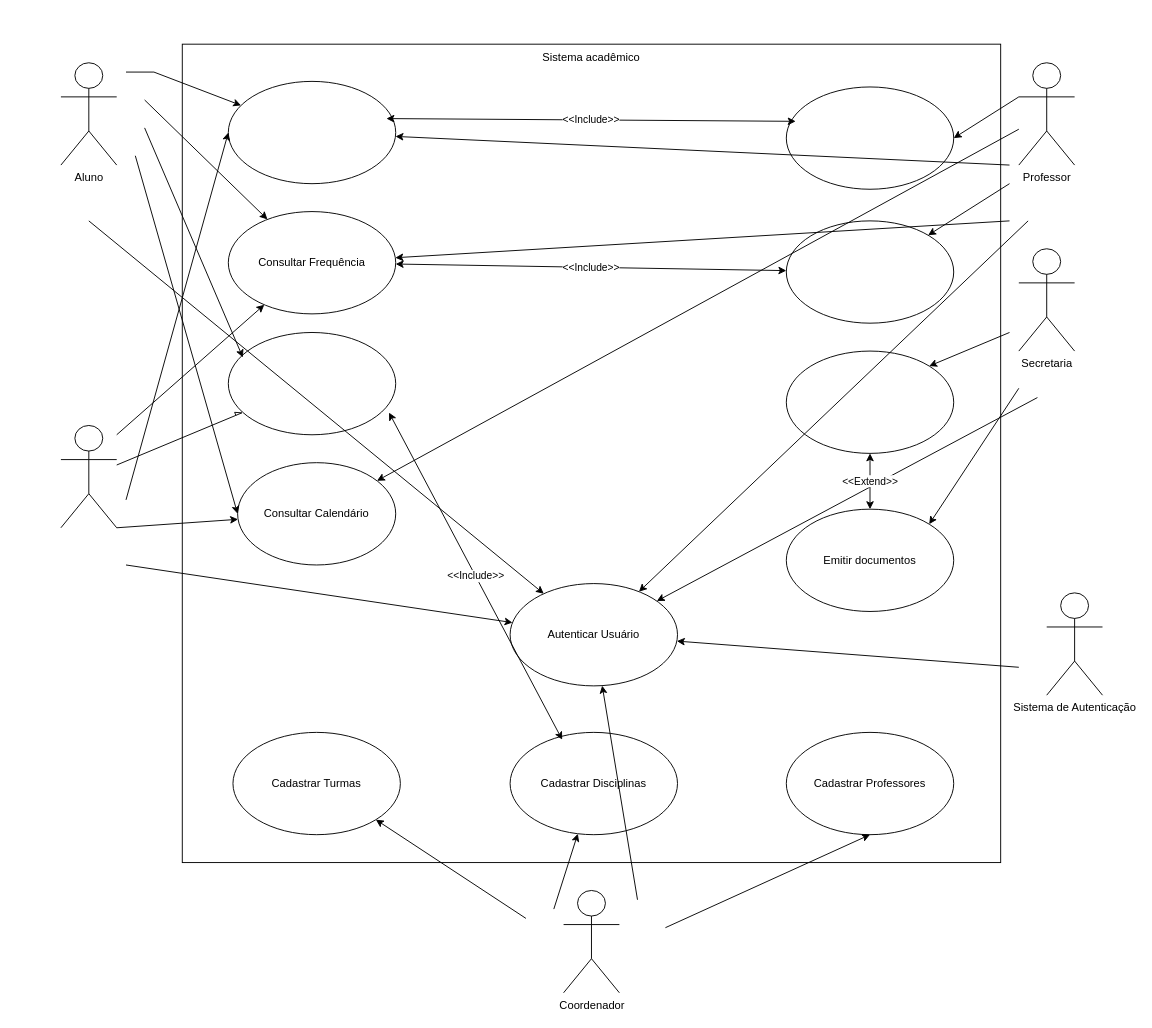
The diagram is 1152 pixels wide and 1028 high, and some of its shapes have lost their labels. The centre of each missing label's shape, as x and y in pixels:
"Consultar disciplinas" belongs at (x=311, y=383).
"Consultar Notas" belongs at (x=311, y=132).
"Realizar Matrícula" belongs at (x=869, y=401).
"Registrar Frequência" belongs at (x=869, y=271).
"Registrar Notas" belongs at (x=869, y=137).
"Responsável legal pelo aluno" belongs at (x=88, y=476).
